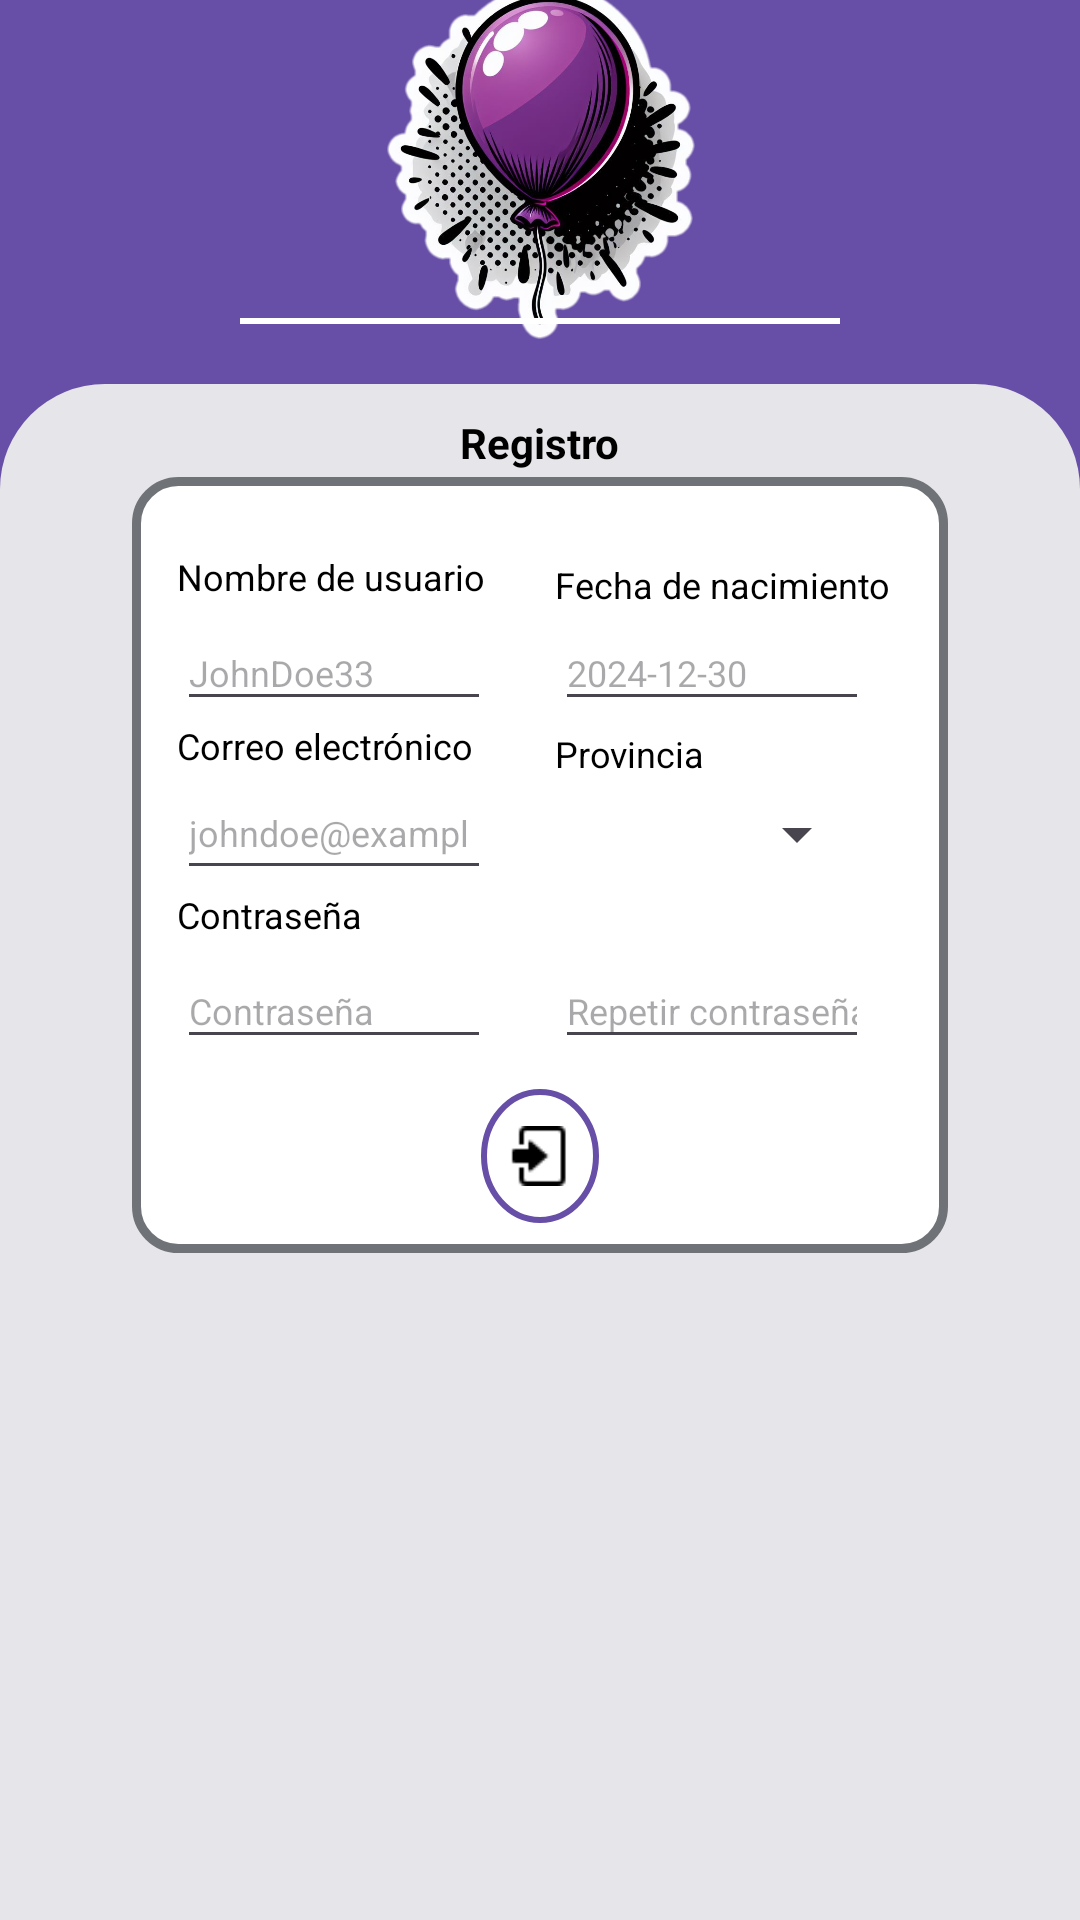

Named icons in this screenshot (1080px x 1920px) and their bounding boxes, [left=x1, top=y1, right=x2, bottom=y2]:
enter: [left=511, top=1126, right=566, bottom=1186]
